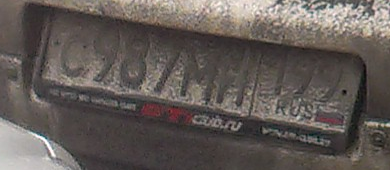character: (148, 31, 185, 100), (216, 50, 252, 114), (180, 47, 219, 106), (91, 19, 121, 92), (122, 24, 152, 91), (316, 42, 346, 104), (58, 32, 92, 85), (291, 43, 317, 102), (266, 44, 291, 98)
